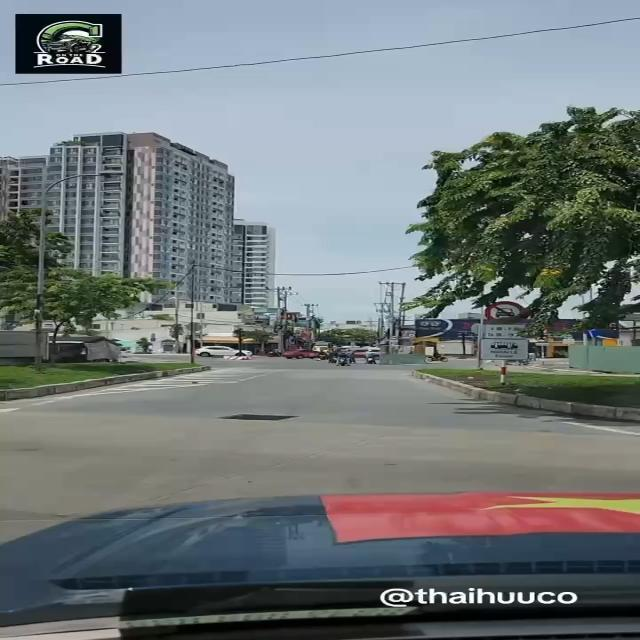103a-cam-oto: (483, 301, 529, 323)
